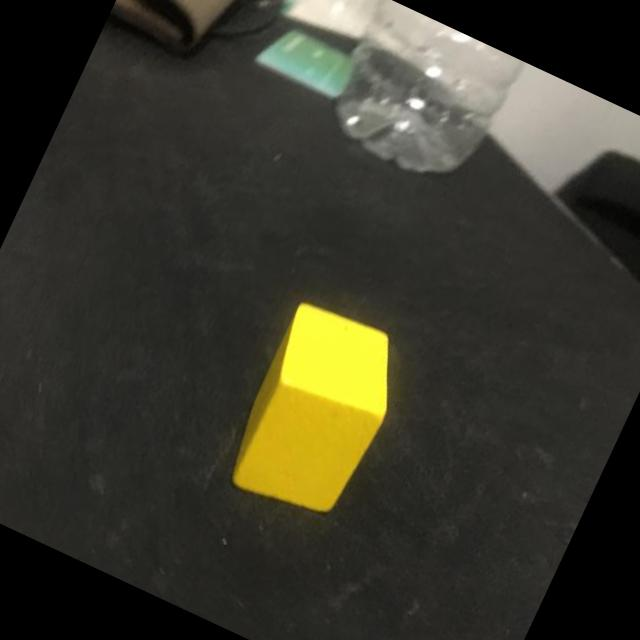yellow: (217, 294, 417, 530)
